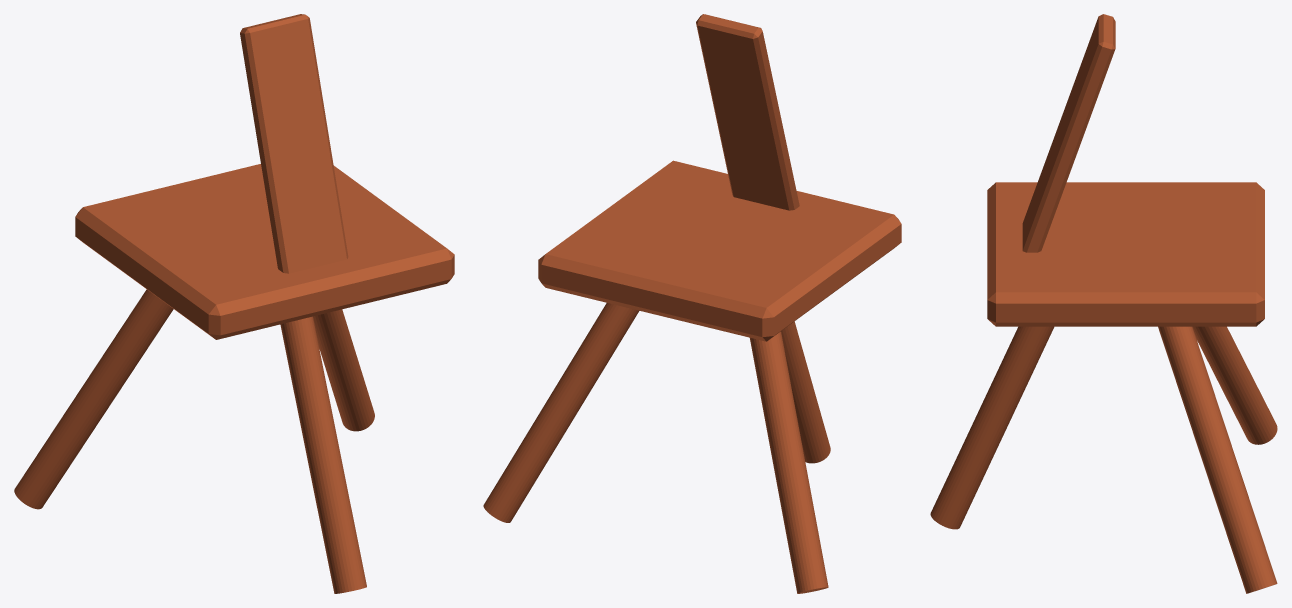
File: CanvasStand.glb
3 views of the same model, side by side, from view 1: azimuth 30°, elevation 25°; view 2: azimuth 150°, elevation 25°; view 3: azimuth 270°, elevation 25° (orthographic). The views are drawn at different scales.
Parts seen in each view (by area): view 1: Cube; view 2: Cube; view 3: Cube.
Boxes of the visible parts, <box> form: Cube: <box>14,14,454,593</box>; Cube: <box>483,14,901,593</box>; Cube: <box>930,14,1277,593</box>.
Size of the model in its own units: 2.9 by 3.99 by 2.5.
